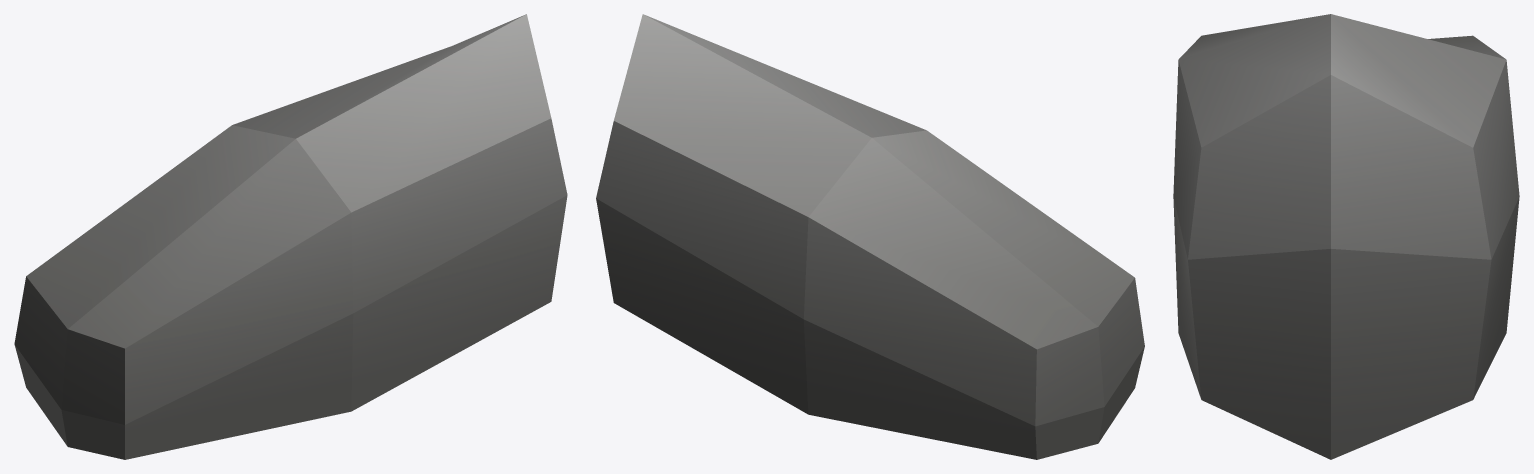
Rendered from Rock_04.fbx.
3 renders of one model, left to right at view 1: azimuth 30°, elevation 25°; view 2: azimuth 150°, elevation 25°; view 3: azimuth 270°, elevation 25°, orthographic. The views are drawn at different scales.
Parts seen in each view (by area): view 1: Rock_04; view 2: Rock_04; view 3: Rock_04.
Part boxes in pixels (x1,y1,x2,y2): Rock_04: [14, 14, 567, 459]; Rock_04: [596, 14, 1144, 459]; Rock_04: [1173, 14, 1519, 459].
Size of the model in its own units: 238 by 158 by 108.
